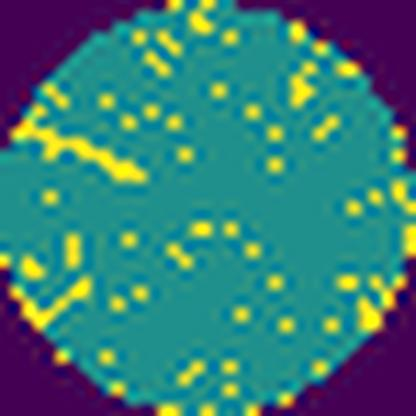Scratch: (5, 116, 153, 187), (22, 274, 98, 334)
